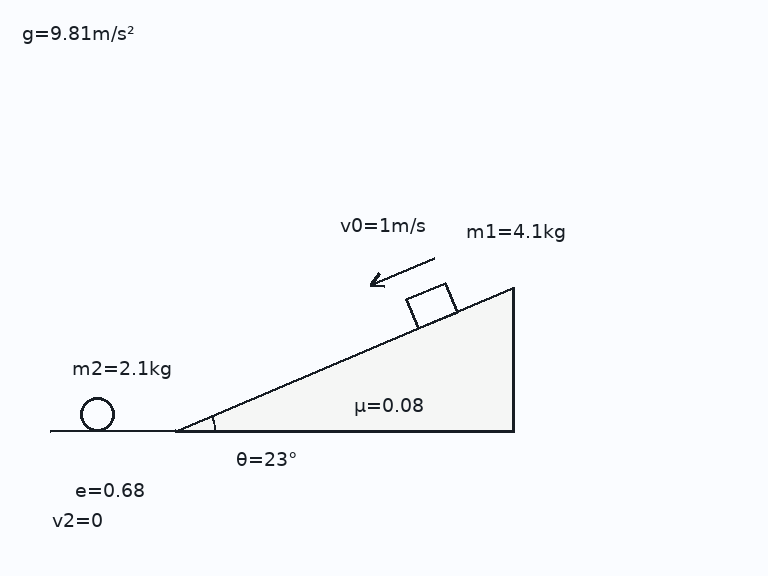ball: (78, 395, 116, 433)
block: (404, 281, 459, 330)
ramp: (173, 286, 514, 433)
